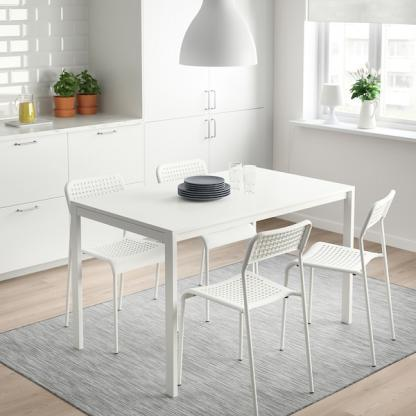chair: (175, 215, 308, 414), (54, 180, 168, 357), (144, 155, 265, 281), (305, 186, 402, 334)
light: (175, 0, 257, 75)
table: (50, 178, 362, 396)
